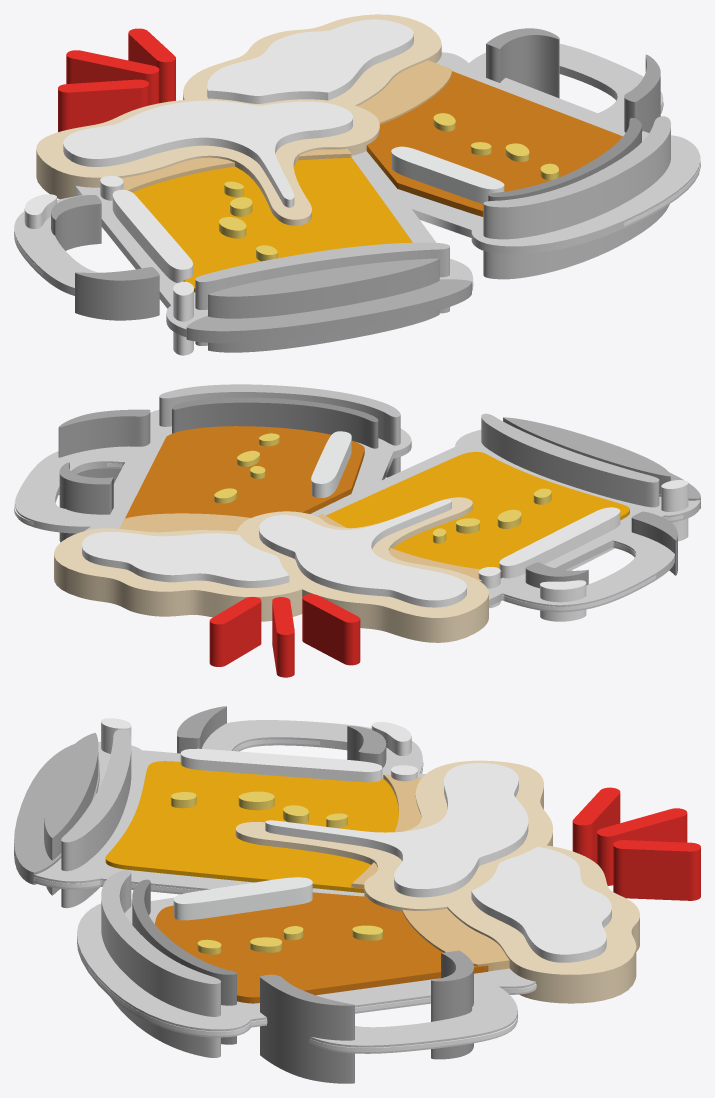
Rendered from emoji_u1f37b.glb.
3 renders of one model, top to bottom at view 1: azimuth 30°, elevation 25°; view 2: azimuth 150°, elevation 25°; view 3: azimuth 270°, elevation 25°, orthographic. The views are drawn at different scales.
Visible parts, largest first — view 1: emoji_u1f37b; view 2: emoji_u1f37b; view 3: emoji_u1f37b.
Part boxes in pixels (box(x1,y1,x2,y2)): emoji_u1f37b: box(14, 14, 700, 355); emoji_u1f37b: box(14, 384, 700, 677); emoji_u1f37b: box(14, 706, 700, 1083).
Size of the model in its own units: 0.034 by 0.0038 by 0.0303.
